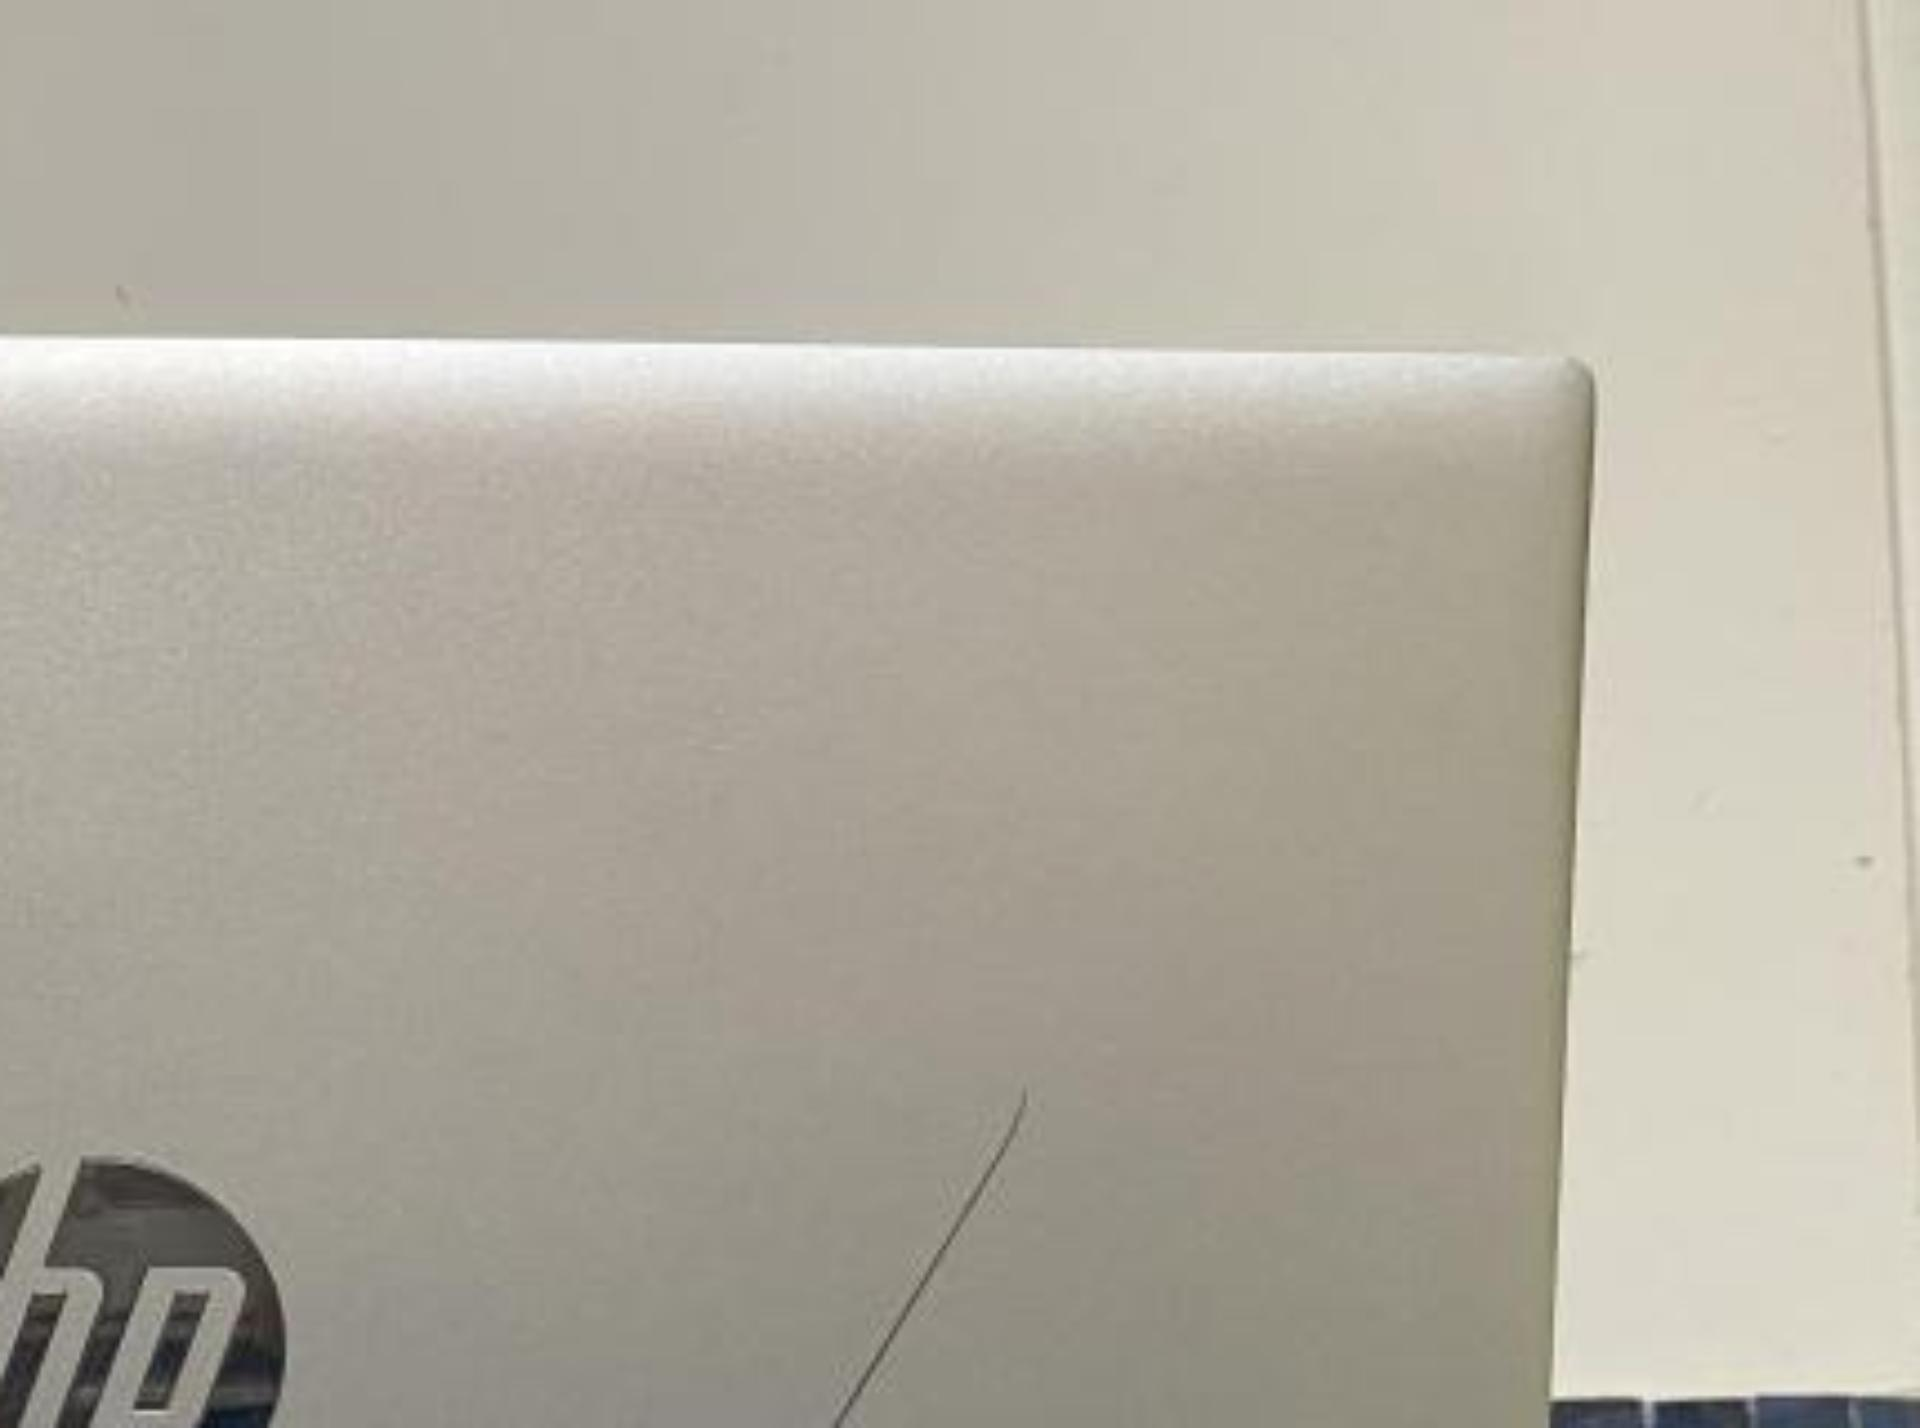scratches: (822, 1084, 1027, 1428)
